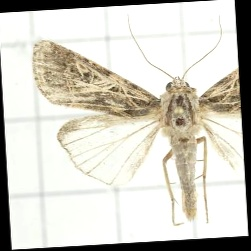Spodoptera litura: (34, 12, 241, 229)
